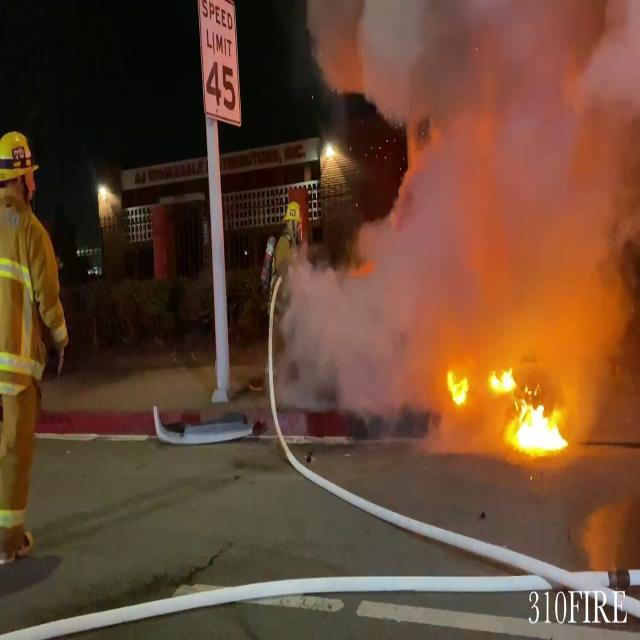Fire: (444, 360, 576, 461)
Smoke: (288, 1, 640, 450)
